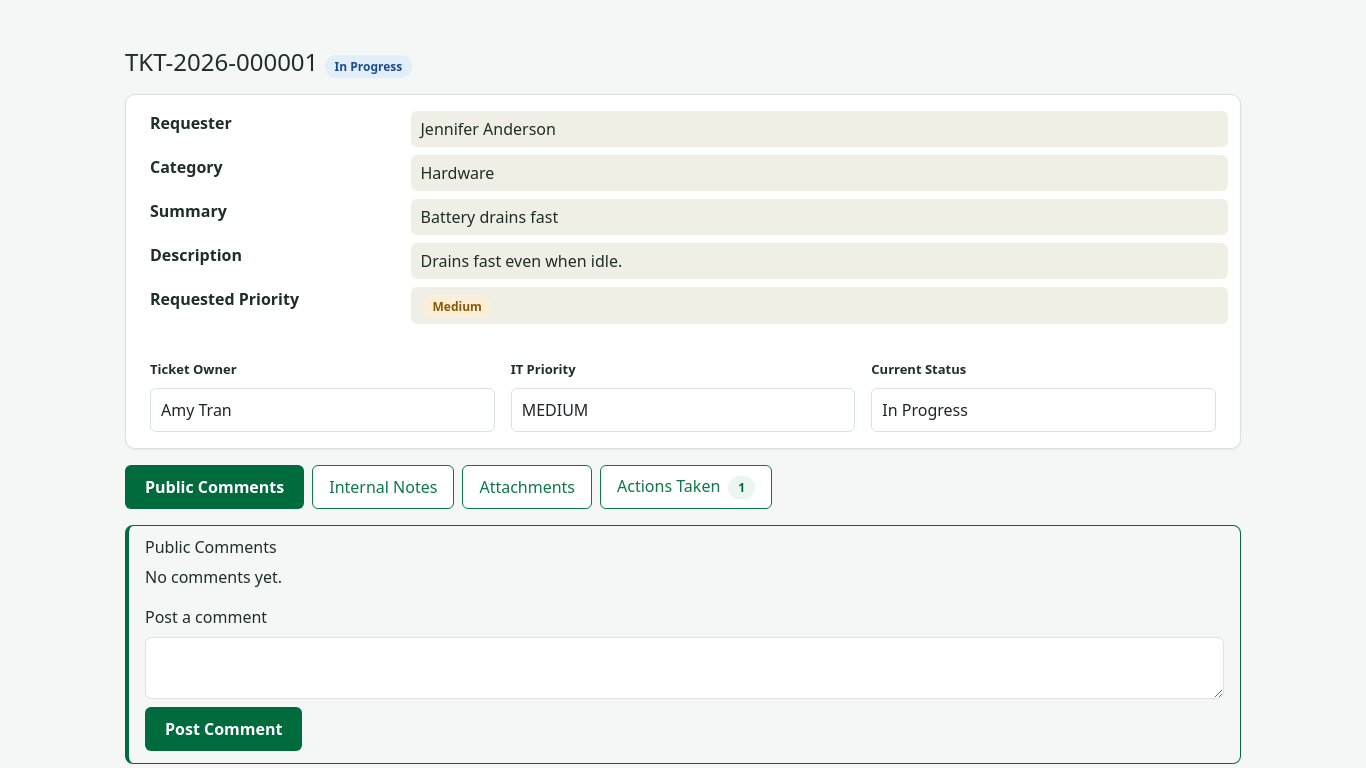
Actions Taken on Staff Ticket Detail (UI-01) › enables Edit for the performer and for an Administrator
The image size is (1366, 768).
Expected: the heading "TKT-2026-000001 In Progress" is shown, [125,45,412,78]
Click the tab "Actions Taken 1". click: {"x": 686, "y": 487}
box: [600,465,772,509]
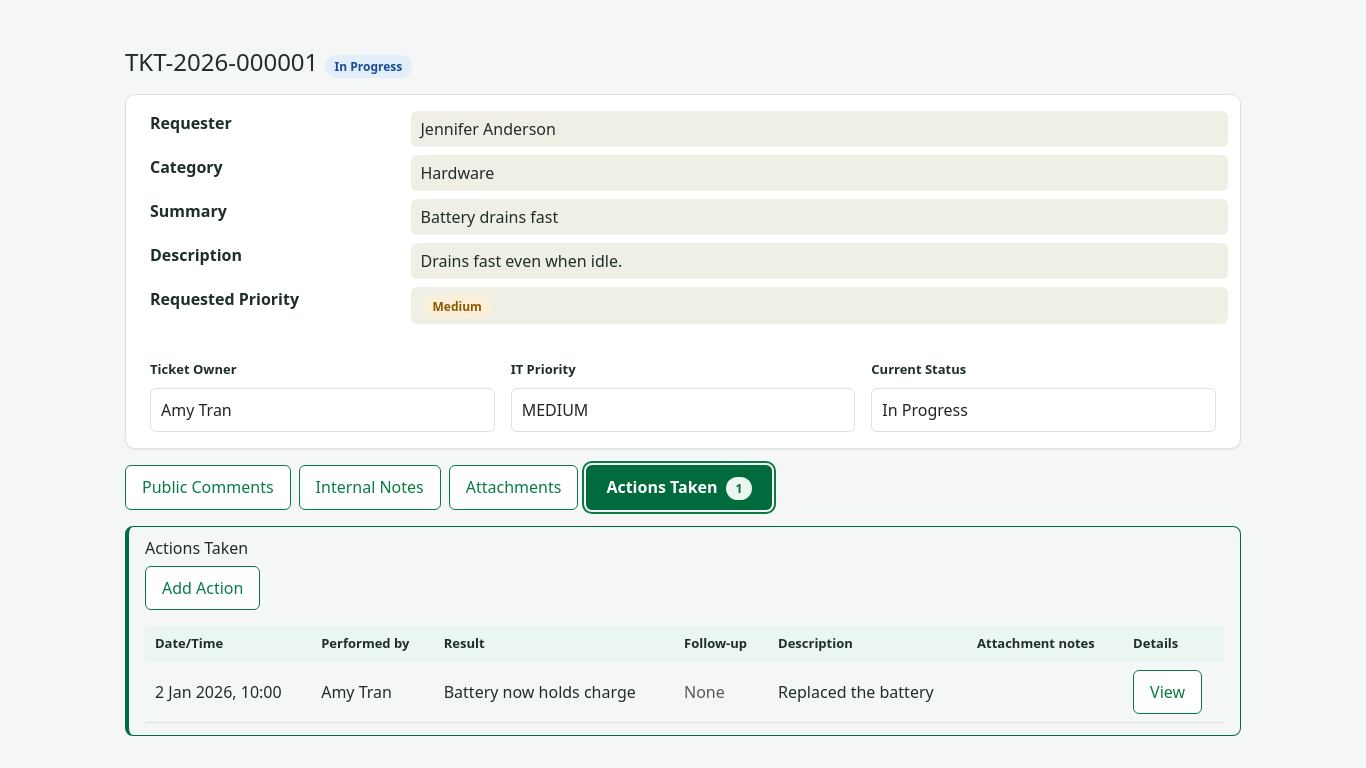
Click the button with aria-label "view action". click: {"x": 1168, "y": 692}
box: [1133,670,1202,714]
(page scrolled)
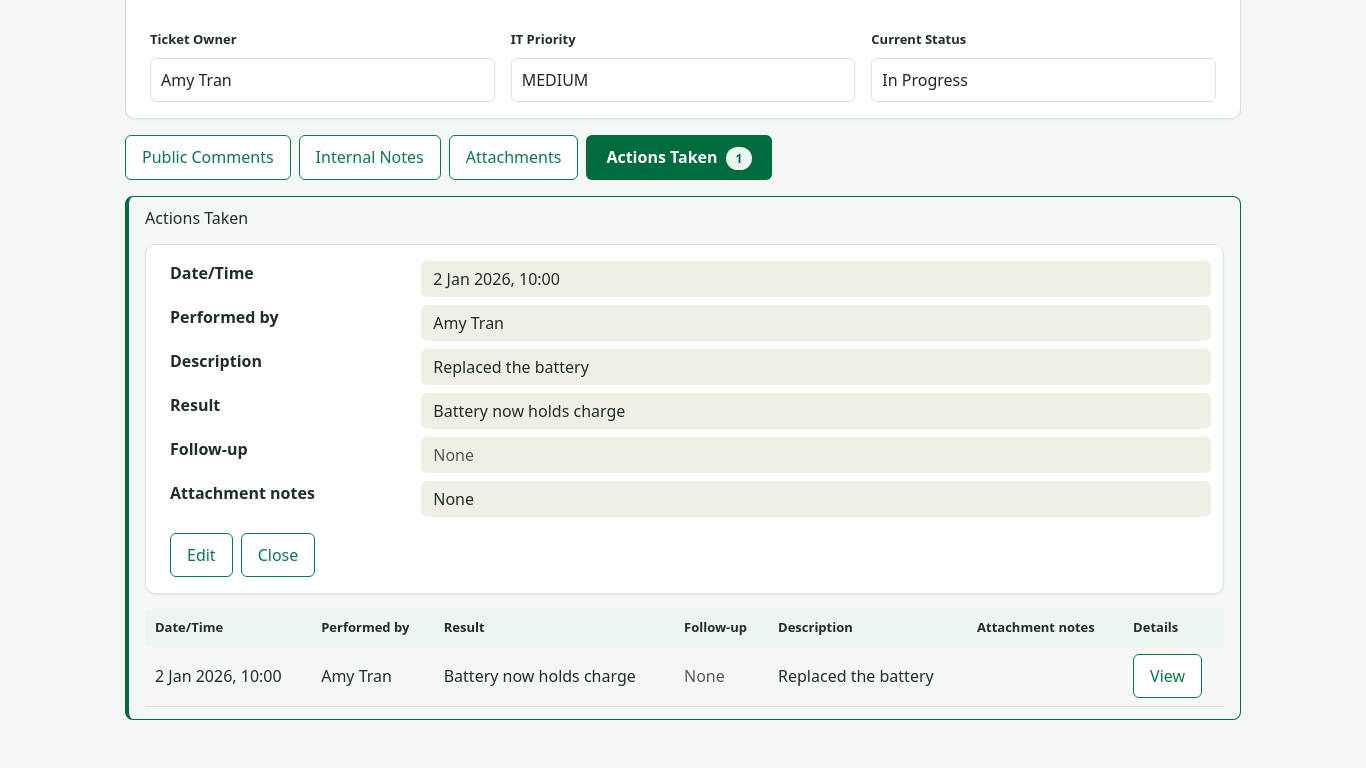
Expected: the button "Edit" is enabled, [170,533,233,577]
